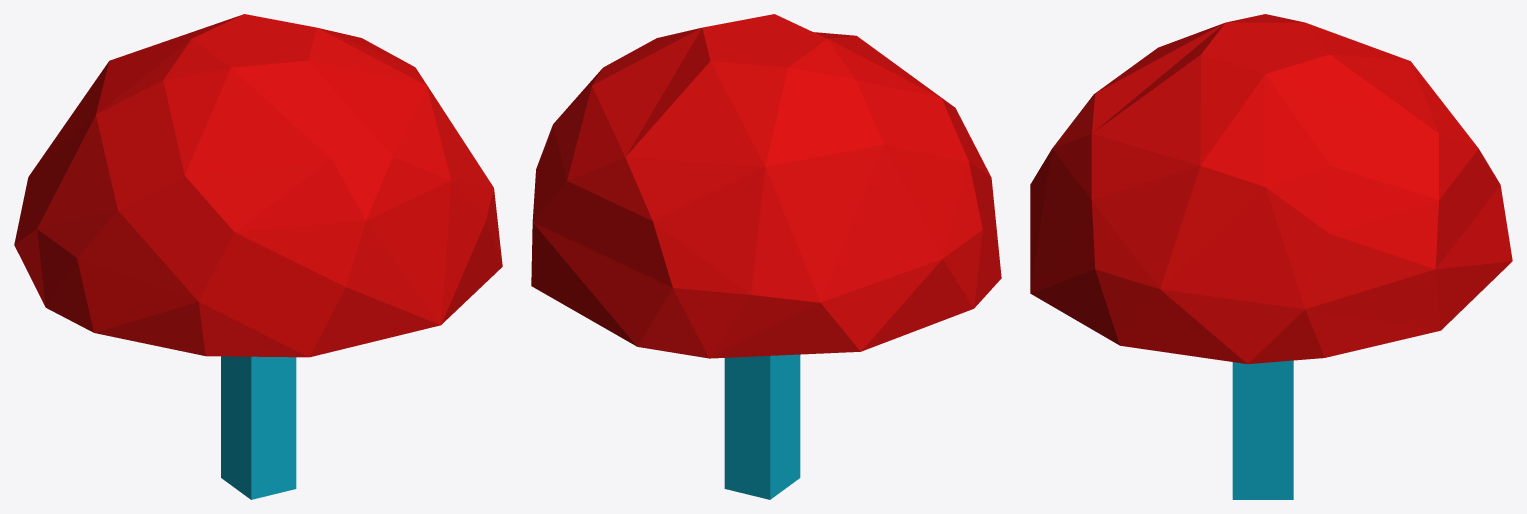
The model's file is champi3.FBX.
3 renders of one model, left to right at view 1: azimuth 30°, elevation 25°; view 2: azimuth 150°, elevation 25°; view 3: azimuth 270°, elevation 25°, orthographic.
Parts seen in each view (by area): view 1: GeoSphere016; view 2: GeoSphere016; view 3: GeoSphere016.
Boxes of the visible parts, x1,y1,x2,y2 form: GeoSphere016: [14, 14, 502, 499]; GeoSphere016: [531, 14, 1001, 499]; GeoSphere016: [1030, 14, 1512, 499].
Bounding box in the file's own units: 0.048 × 0.0478 × 0.0472.
